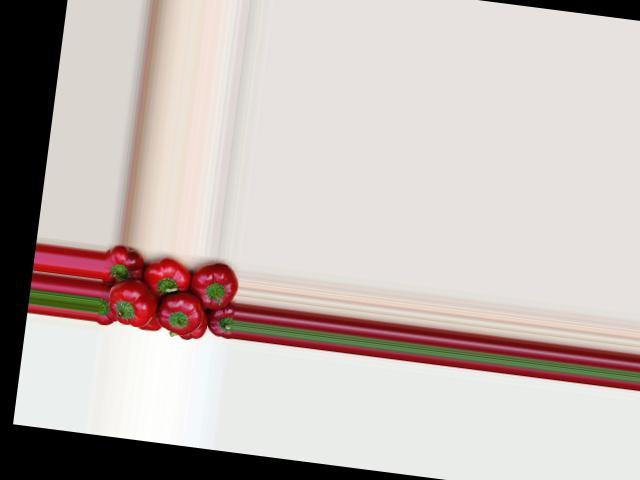bell_pepper: (141, 313, 163, 334)
